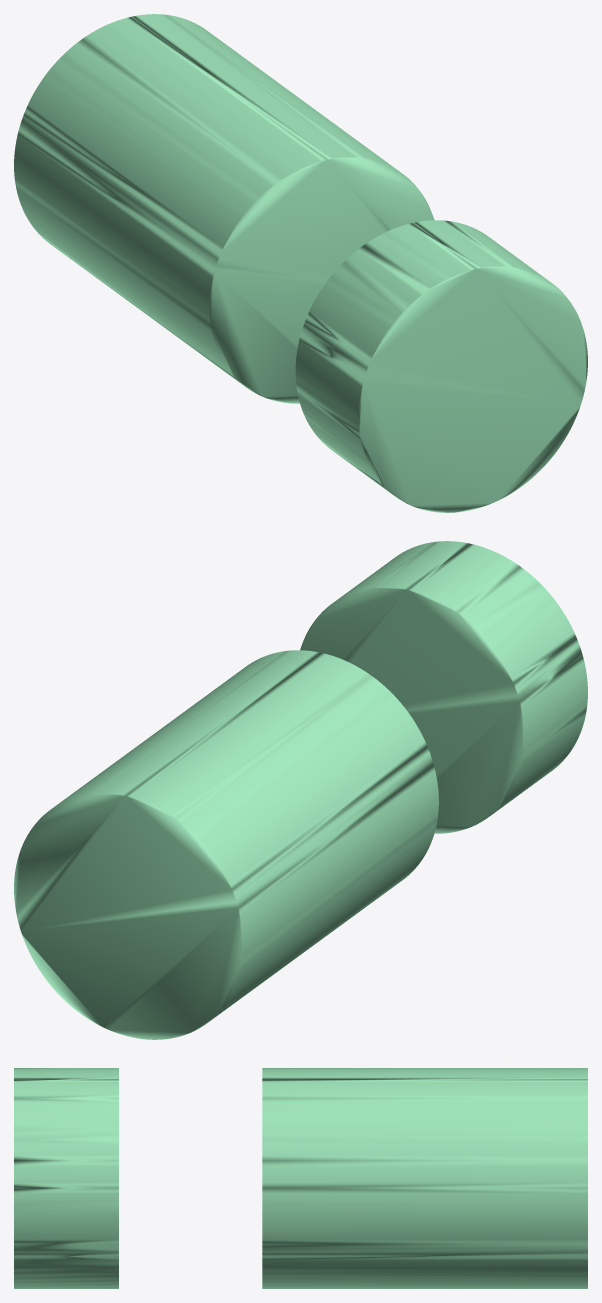
The model's file is rig_i.glb.
3 renders of one model, top to bottom at view 1: azimuth 30°, elevation 25°; view 2: azimuth 150°, elevation 25°; view 3: azimuth 270°, elevation 25°, orthographic. The views are drawn at different scales.
Visible parts, largest first — view 1: rig_i; view 2: rig_i; view 3: rig_i.
Part boxes in pixels (box(x1,y1,x2,y2)): rig_i: box(14, 14, 587, 512); rig_i: box(14, 541, 587, 1039); rig_i: box(14, 1068, 587, 1288).
Bounding box in the file's own units: 40 × 39.99 × 104.
